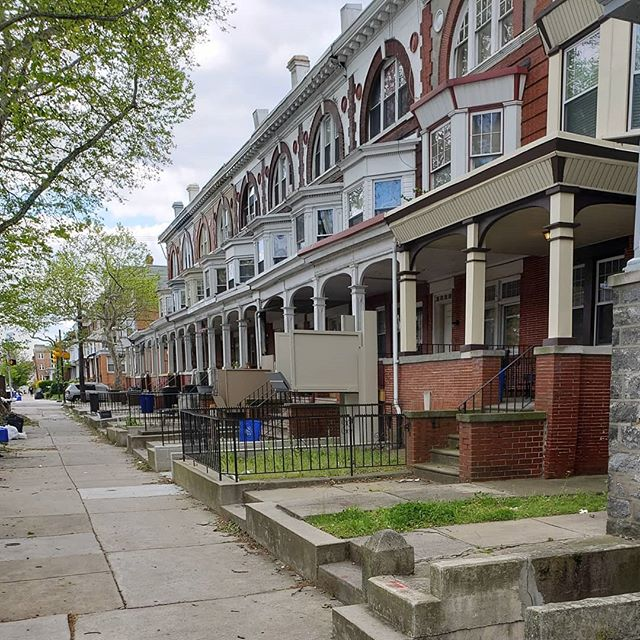building: (169, 1, 640, 453)
tree: (1, 1, 184, 327)
